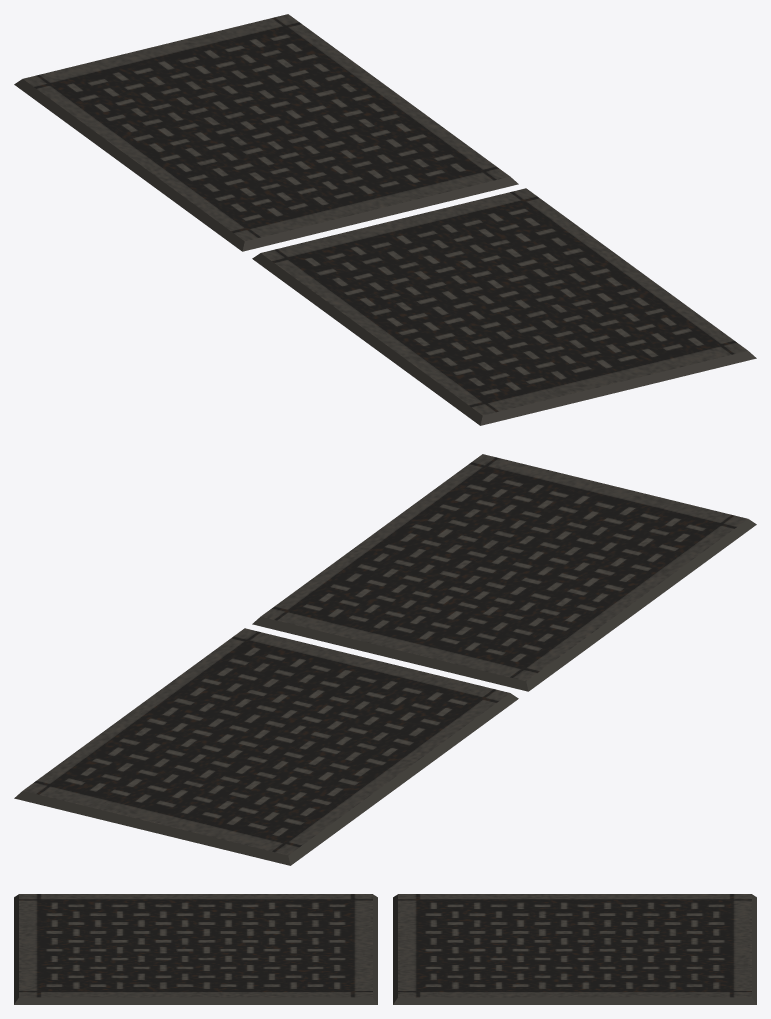
The model's file is SM_Morin_Tombino.fbx.
3 views of the same model, one above another, from view 1: azimuth 30°, elevation 25°; view 2: azimuth 150°, elevation 25°; view 3: azimuth 270°, elevation 25° (orthographic). The views are drawn at different scales.
Parts seen in each view (by area): view 1: SM_Morin_Tombino; view 2: SM_Morin_Tombino; view 3: SM_Morin_Tombino.
Boxes of the visible parts, box(x1,y1,x2,y2) form: SM_Morin_Tombino: box(14, 14, 756, 425); SM_Morin_Tombino: box(14, 454, 756, 865); SM_Morin_Tombino: box(14, 894, 756, 1004).
Size of what is drawn, in the model's own units: 60.4 by 176 by 1.4.
Materials: 1 (1 with a texture image).
